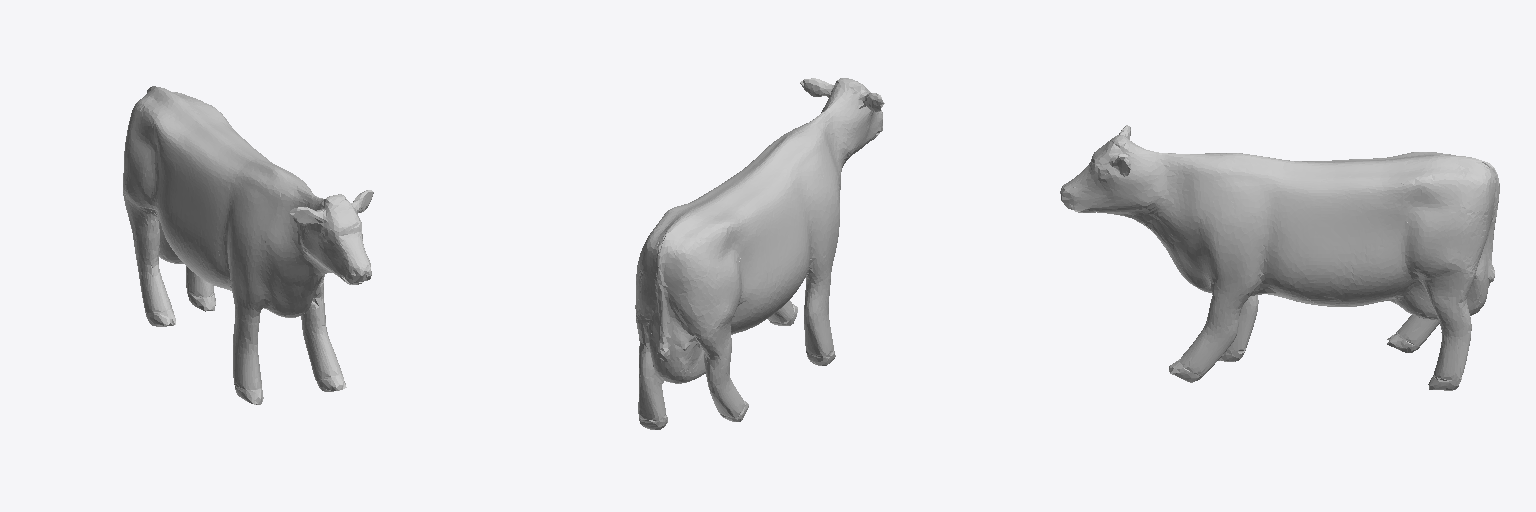
The model's file is step6.obj.
3 renders of one model, left to right at view 1: azimuth 30°, elevation 25°; view 2: azimuth 150°, elevation 25°; view 3: azimuth 270°, elevation 25°, orthographic.
Parts seen in each view (by area): view 1: Cow:cow; view 2: Cow:cow; view 3: Cow:cow.
Part boxes in pixels (bbox=[...]): Cow:cow: bbox=[123, 86, 373, 404]; Cow:cow: bbox=[635, 78, 884, 429]; Cow:cow: bbox=[1060, 125, 1499, 390].
Bounding box in the file's own units: 0.4604 × 1.17 × 1.96.